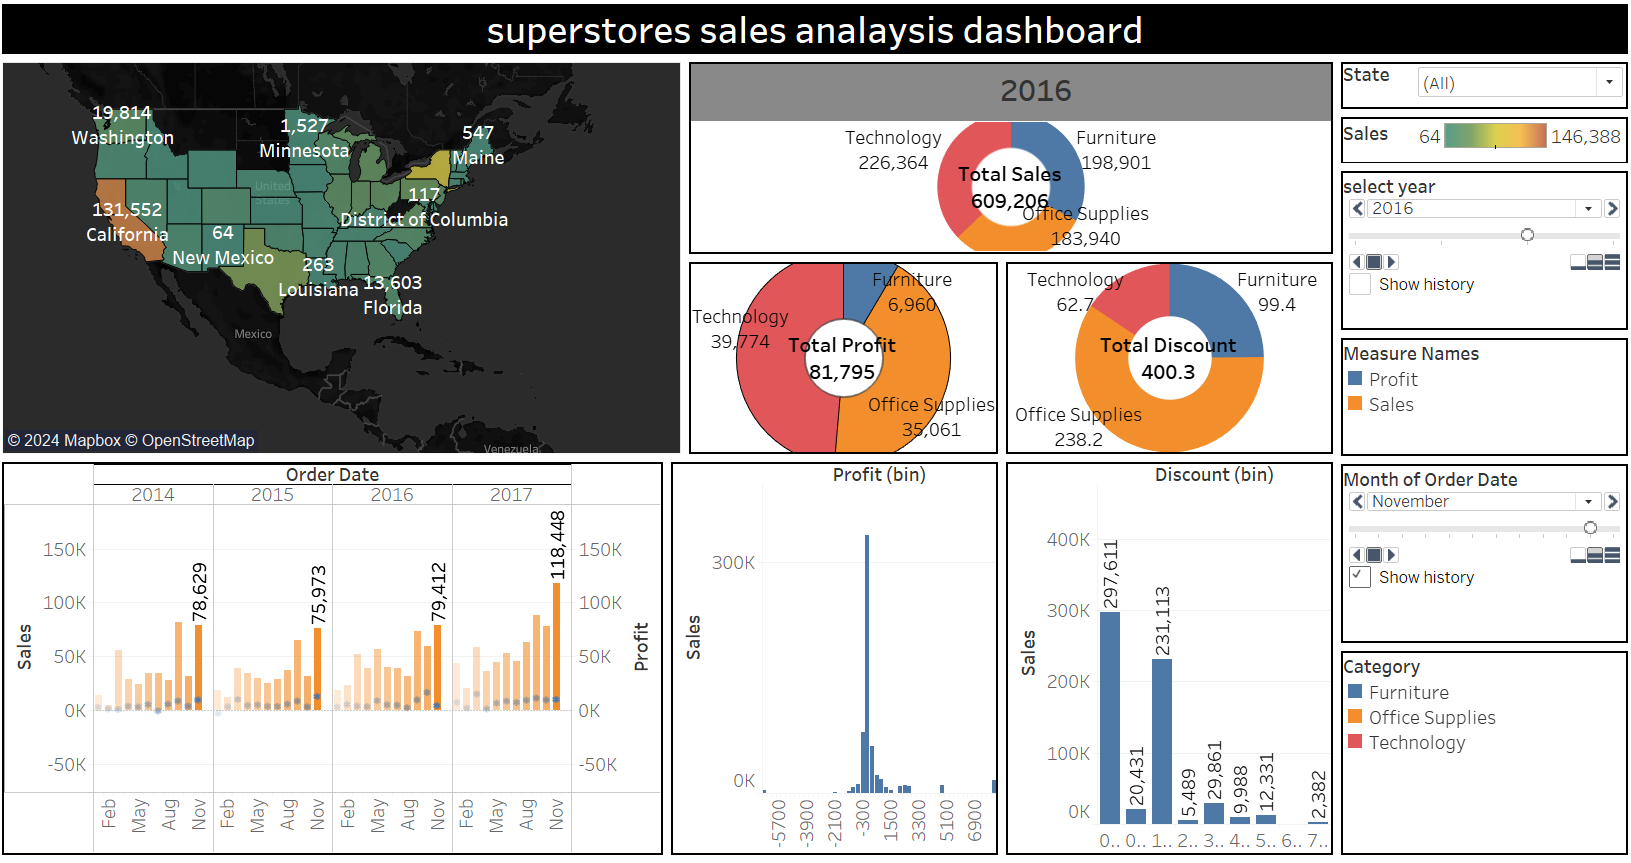

Layout of this report page (visuals, bound fields, positions):
{"tool":"tableau","page":{"name":"Dashboard 1","canvas":[1650,875],"ordinal":0},"visuals":[{"type":"title","box":[8,8,1634,58]},{"type":"worksheet","title":"overall sales","mark":"Automatic","box":[8,66,687.4,400.5]},{"type":"worksheet","title":"sales donut chart","mark":"Circle","rows":["Calculation_763078683754483712","Calculation_763078683754483712"],"box":[695.4,66,651.6,200.2]},{"type":"filter","title":"overall sales","param":"[federated.1ymizok1iy616e1cffa3e1fnzf0p].[none:State:nk]","box":[1347,66,295,54.5]},{"type":"legend","title":"overall sales","param":"[federated.1ymizok1iy616e1cffa3e1fnzf0p].[sum:Sales:qk]","box":[1347,120.5,295,54.5]},{"type":"currpage","title":"overall sales","box":[1347,175,295,167]},{"type":"worksheet","title":"profit donut chart","mark":"Circle","rows":["Calculation_763078683754483712","Calculation_763078683754483712"],"box":[695.4,266.2,316.8,200.2]},{"type":"worksheet","title":"discount donut chart","mark":"Circle","rows":["Calculation_763078683754483712","Calculation_763078683754483712"],"box":[1012.2,266.2,334.8,200.2]},{"type":"legend","title":"sales vs profit","param":"[federated.1ymizok1iy616e1cffa3e1fnzf0p].[:Measure Names]","box":[1347,342,295,126]},{"type":"worksheet","title":"sales vs profit","mark":"Bar","rows":["Sales","Profit"],"cols":["Order Date","Order Date"],"box":[8,466.5,669.4,400.5]},{"type":"worksheet","title":"profit vs sales","mark":"Automatic","rows":["Sales"],"cols":["Profit (bin)"],"box":[677.4,466.5,334.8,400.5]},{"type":"worksheet","title":"discount vs sales","mark":"Automatic","rows":["Sales"],"cols":["Discount (bin)"],"box":[1012.2,466.5,334.8,400.5]},{"type":"currpage","title":"sales vs profit","box":[1347,468,295,187]},{"type":"legend","title":"sales donut chart","param":"[federated.1ymizok1iy616e1cffa3e1fnzf0p].[none:Category:nk]","box":[1347,655,295,212]}]}

Visuals, with their boxes in screenshot pixels (x1, y1, x2, y2), scaled from the page's 1650x875 canvas onto the 1631x863 screenshot:
title: bbox=[8, 8, 1623, 65]
"overall sales" worksheet: bbox=[8, 65, 687, 460]
"sales donut chart" worksheet (Circle marks): bbox=[687, 65, 1331, 263]
"overall sales" filter: bbox=[1331, 65, 1623, 119]
"overall sales" legend: bbox=[1331, 119, 1623, 173]
"overall sales" currpage: bbox=[1331, 173, 1623, 337]
"profit donut chart" worksheet (Circle marks): bbox=[687, 263, 1001, 460]
"discount donut chart" worksheet (Circle marks): bbox=[1001, 263, 1331, 460]
"sales vs profit" legend: bbox=[1331, 337, 1623, 462]
"sales vs profit" worksheet (Bar marks): bbox=[8, 460, 670, 855]
"profit vs sales" worksheet: bbox=[670, 460, 1001, 855]
"discount vs sales" worksheet: bbox=[1001, 460, 1331, 855]
"sales vs profit" currpage: bbox=[1331, 462, 1623, 646]
"sales donut chart" legend: bbox=[1331, 646, 1623, 855]
